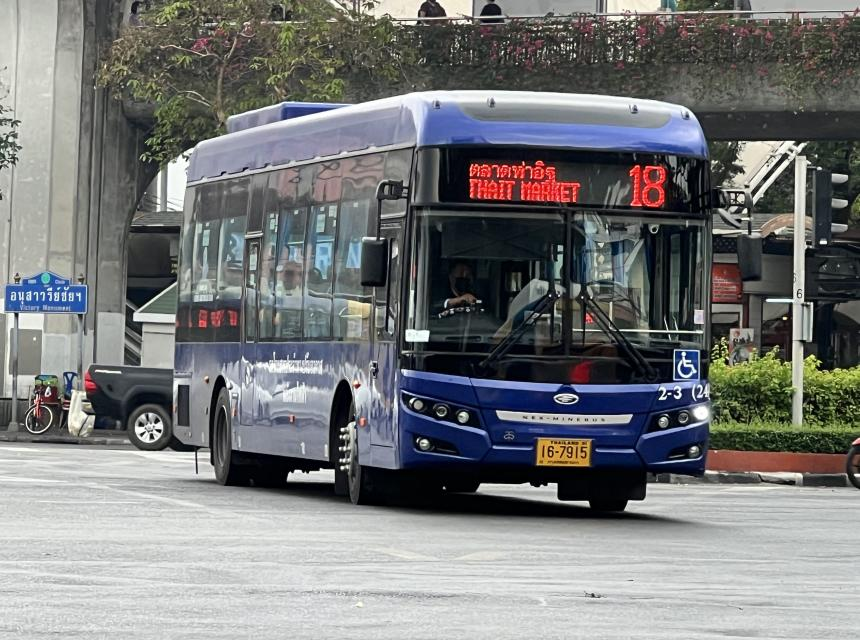Bus Line Number: (612, 153, 682, 214)
Bus Side Number: (652, 382, 713, 400)
Destination Sign: (466, 150, 586, 210)
TSB-Bus: (169, 90, 718, 515)
